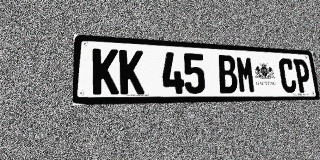4: (161, 52, 185, 94)
5: (183, 53, 206, 94)
B: (217, 55, 238, 93)
C: (278, 58, 297, 93)
K: (92, 48, 119, 95), (119, 49, 144, 94)
M: (235, 56, 256, 93)
P: (293, 59, 312, 93)
